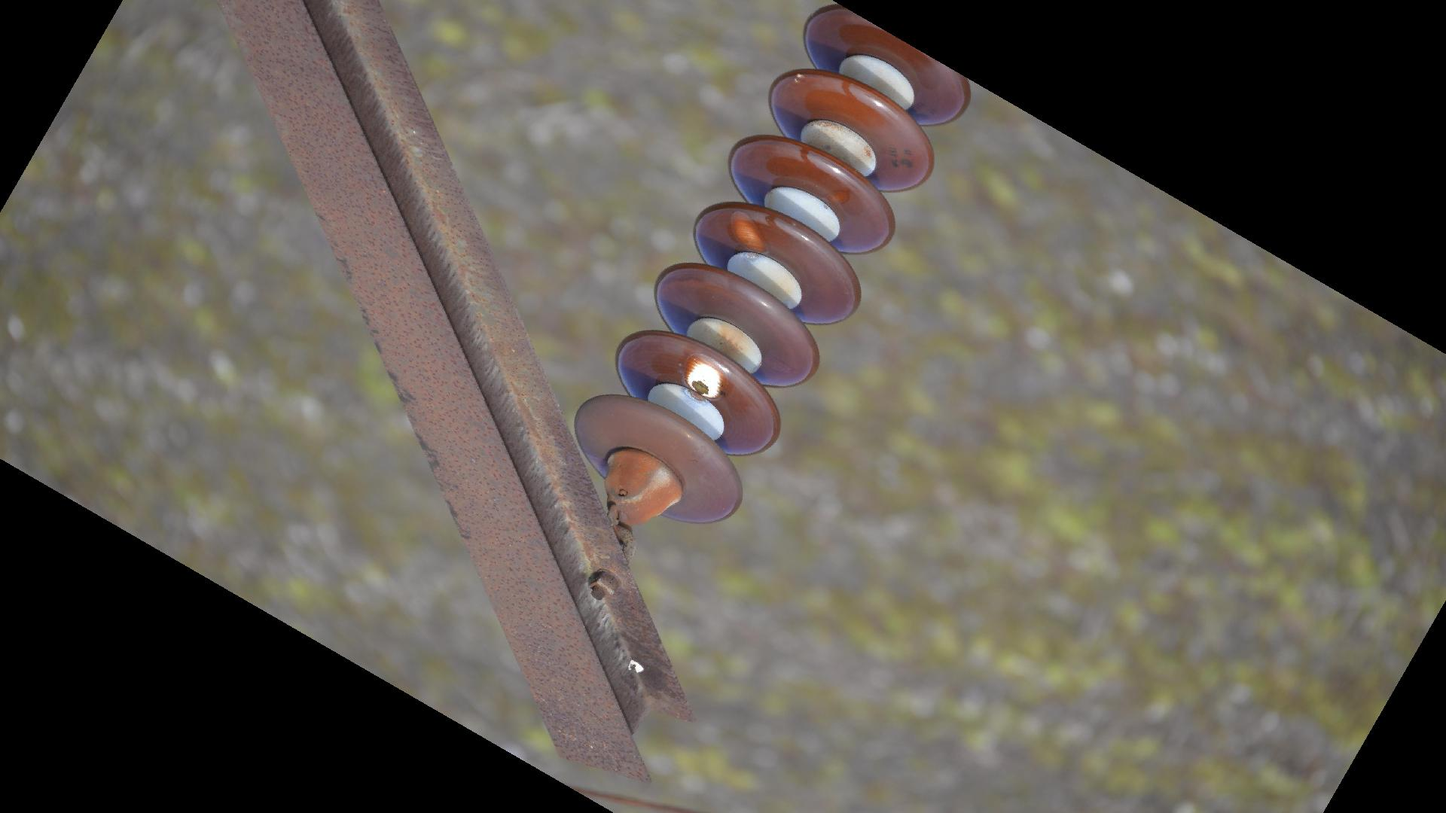insulator: (569, 1, 977, 531)
insulator_flashover: (680, 352, 728, 402), (729, 209, 769, 254)
